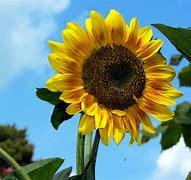sunflowers: (46, 5, 180, 137)
